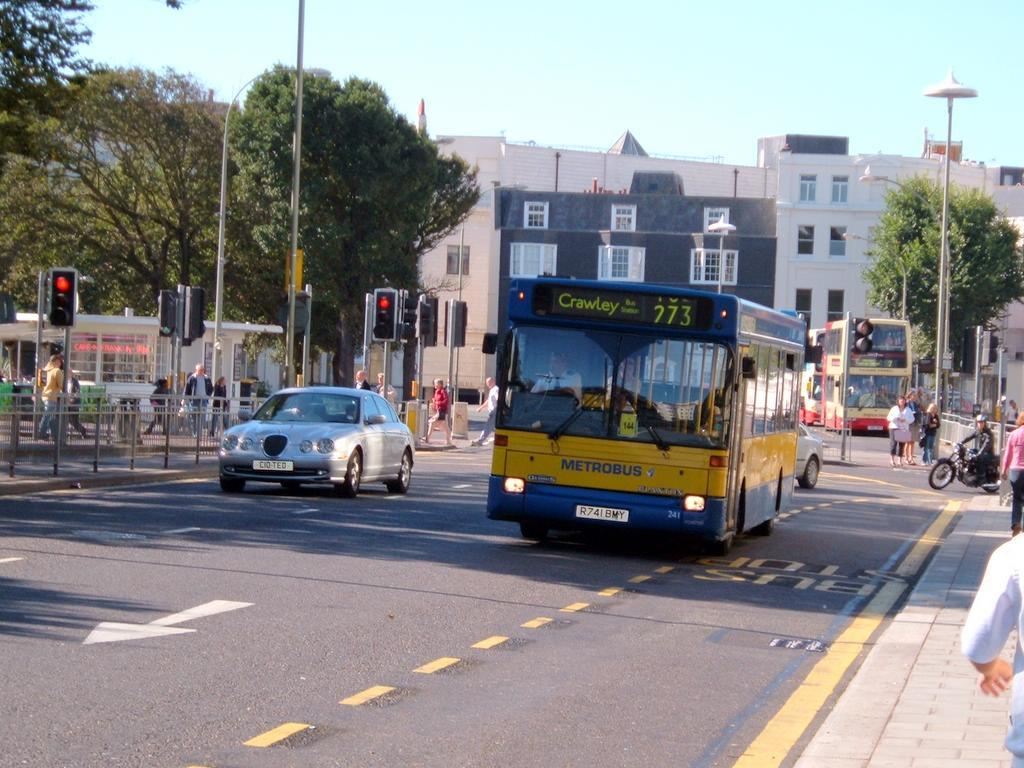Bus: (476, 273, 800, 564), (823, 312, 913, 432), (796, 330, 819, 427)
